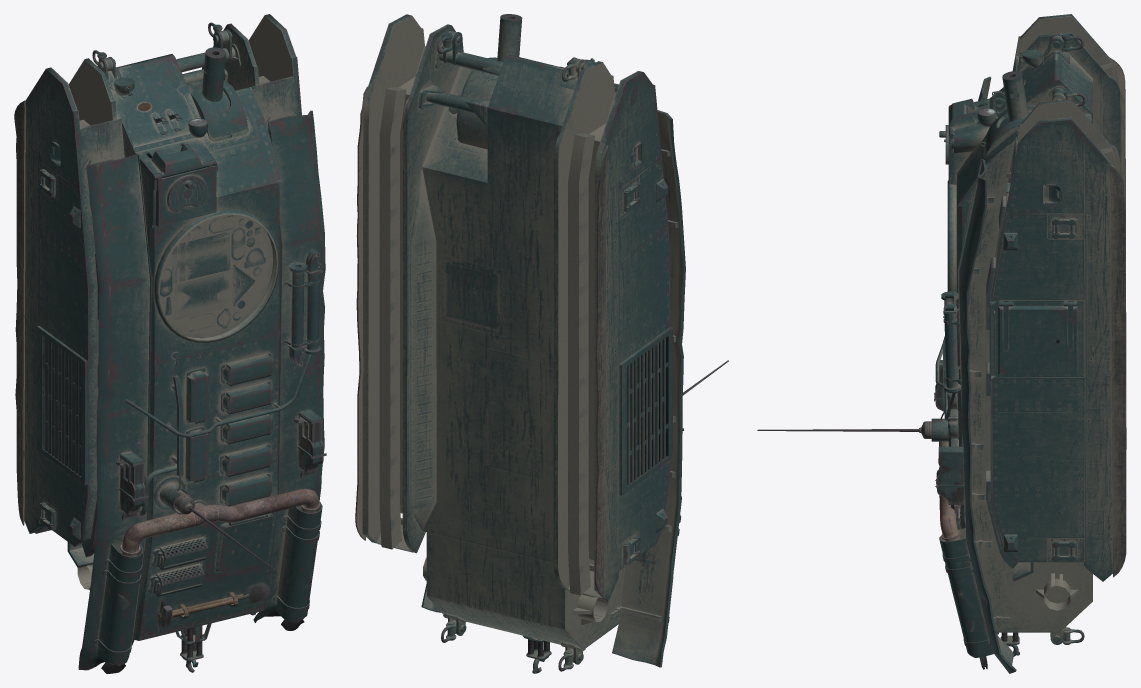
The model's file is Hull.glb.
3 views of the same model, side by side, from view 1: azimuth 30°, elevation 25°; view 2: azimuth 150°, elevation 25°; view 3: azimuth 270°, elevation 25° (orthographic). The views are drawn at different scales.
Visible parts, largest first — view 1: set_0_group_0; view 2: set_0_group_0; view 3: set_0_group_0.
Boxes of the visible parts, x1=… form: set_0_group_0: x1=14, y1=14, x2=326, y2=673; set_0_group_0: x1=355, y1=14, x2=728, y2=673; set_0_group_0: x1=757, y1=14, x2=1126, y2=673.
Size of the model in its own units: 2.63 by 6.49 by 3.66.
1 material, 1 textured.
